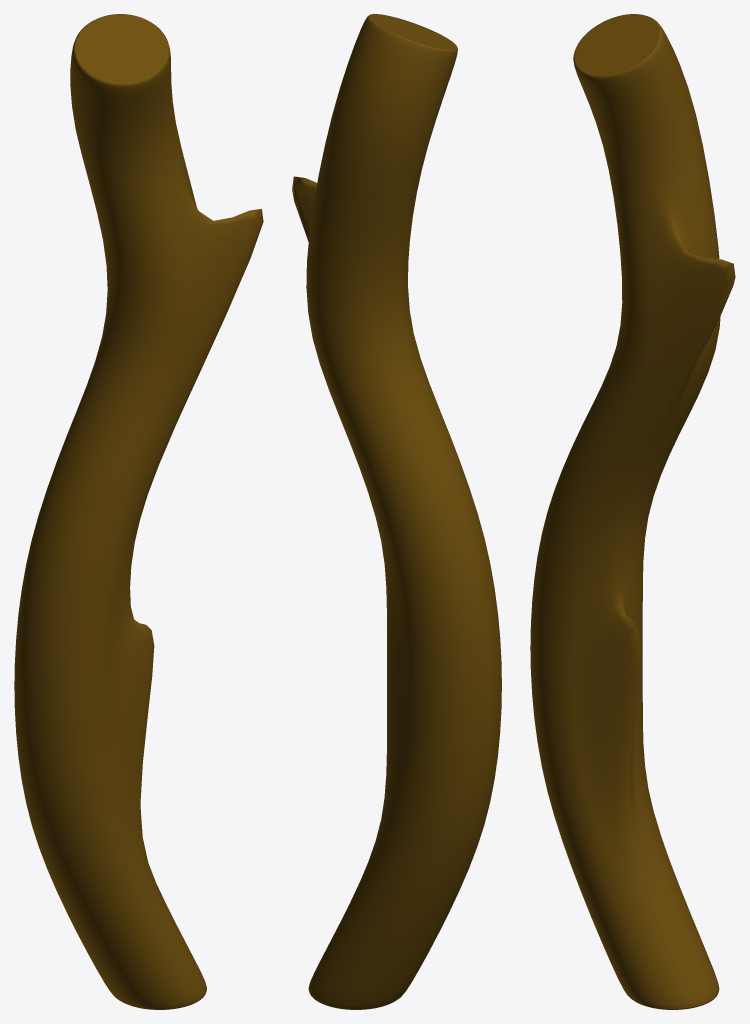
File: branch (2).fbx
3 renders of one model, left to right at view 1: azimuth 30°, elevation 25°; view 2: azimuth 150°, elevation 25°; view 3: azimuth 330°, elevation 25°, orthographic. The views are drawn at different scales.
Visible parts, largest first — view 1: pCylinder1; view 2: pCylinder1; view 3: pCylinder1.
Part boxes in pixels (bbox=[...]): pCylinder1: bbox=[14, 14, 263, 1009]; pCylinder1: bbox=[292, 14, 501, 1009]; pCylinder1: bbox=[530, 14, 735, 1009].
Size of the model in its own units: 0.9976 by 4.19 by 0.4714.
